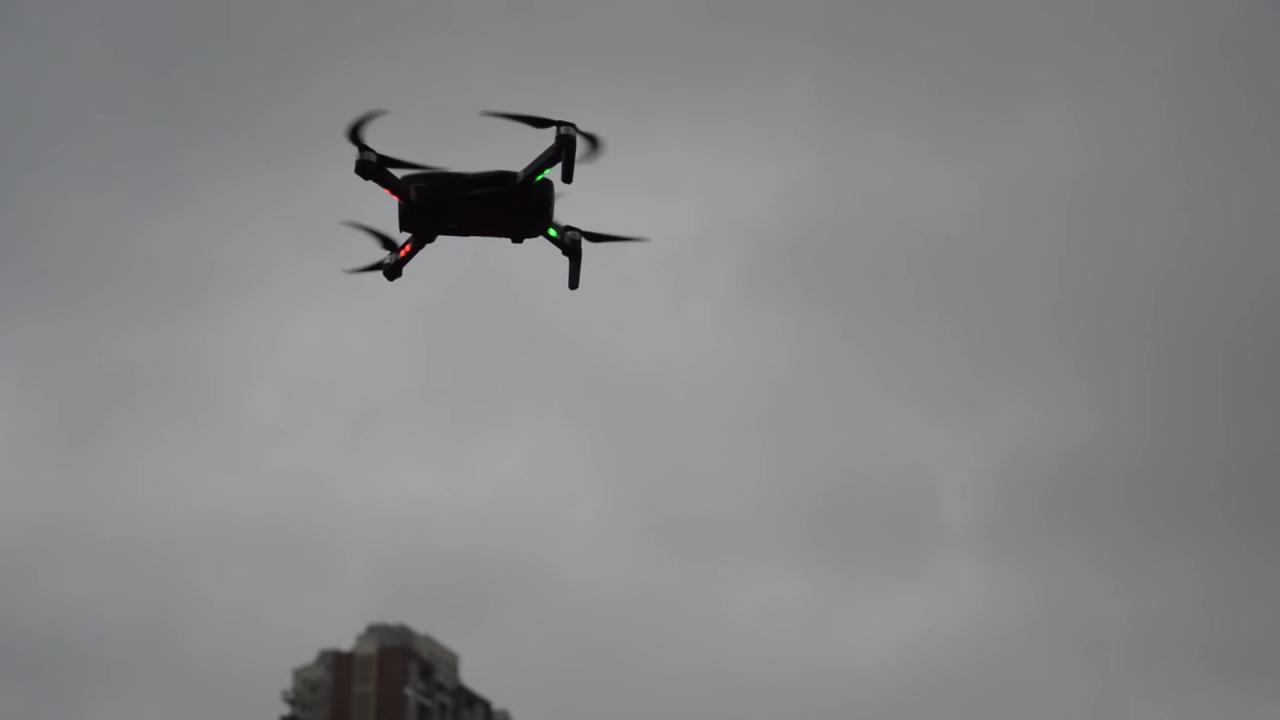Drone: (324, 90, 661, 304)
